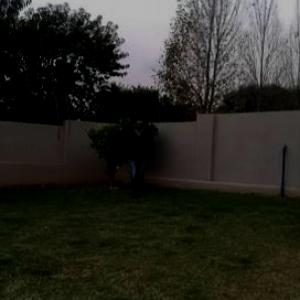follow: (127, 116, 148, 201)
